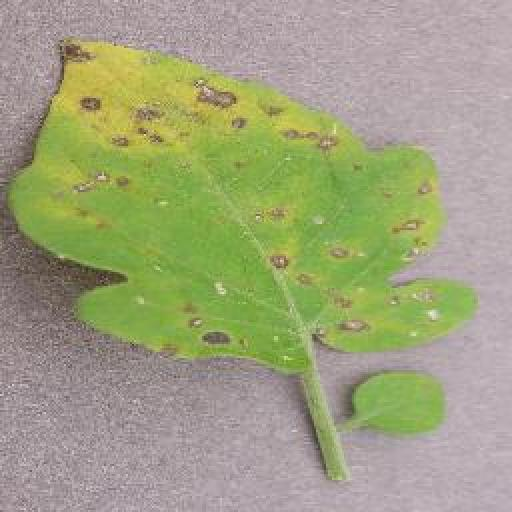disease_tomato: (11, 34, 480, 370)
